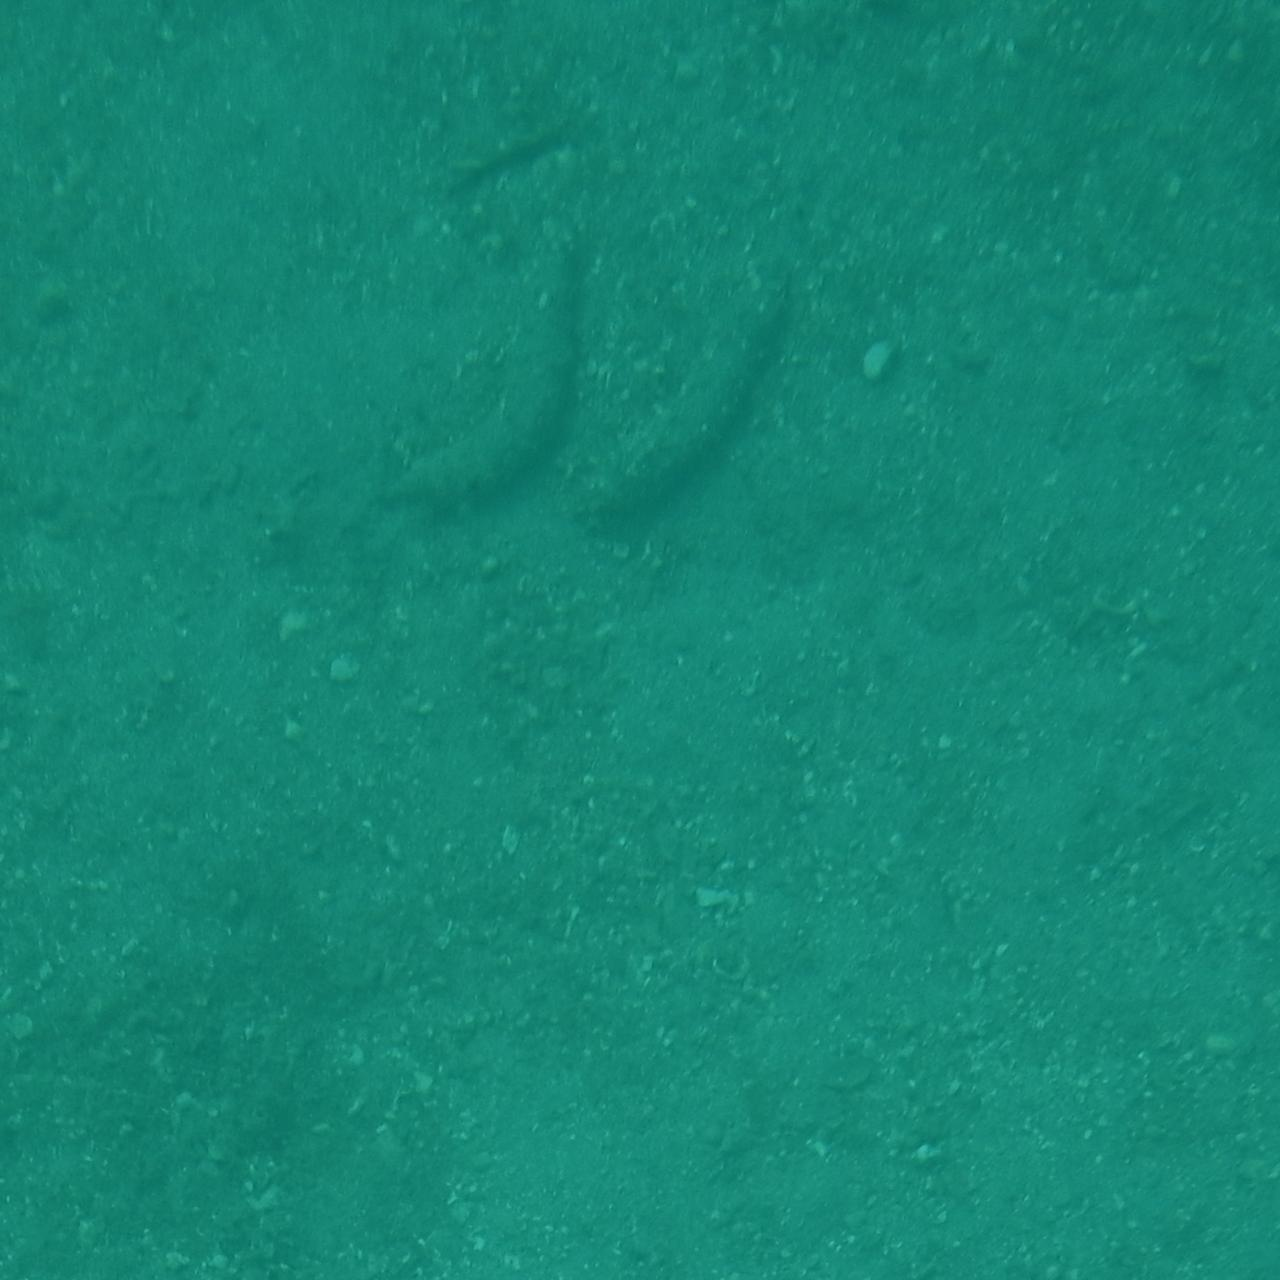Holothuria tubulosa: (336, 203, 586, 519), (560, 231, 805, 542), (1148, 0, 1280, 288), (0, 431, 68, 713)
